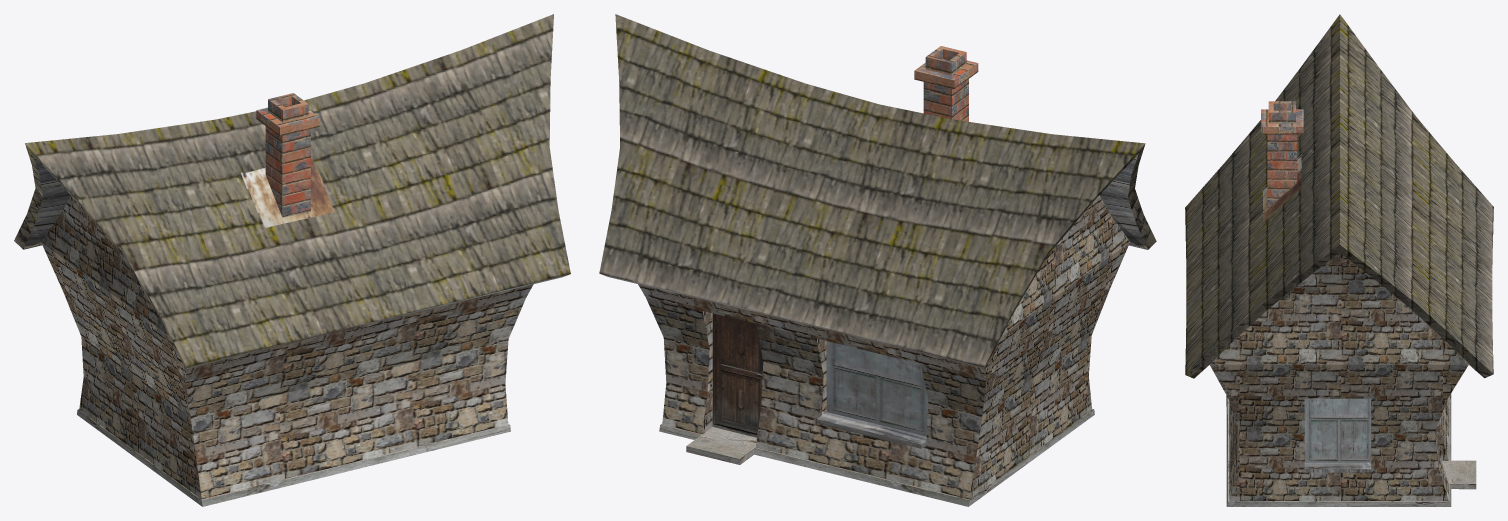
File: house.obj
3 views of the same model, side by side, from view 1: azimuth 30°, elevation 25°; view 2: azimuth 150°, elevation 25°; view 3: azimuth 270°, elevation 25° (orthographic). The views are drawn at different scales.
Parts seen in each view (by area): view 1: House_Cube; view 2: House_Cube; view 3: House_Cube.
Boxes of the visible parts, left/top/right/bottom form: House_Cube: left=14, top=14, right=570, bottom=506; House_Cube: left=599, top=14, right=1156, bottom=506; House_Cube: left=1185, top=14, right=1493, bottom=506.
Bounding box in the file's own units: 7.69 × 4.92 × 4.35.
1 material, 1 textured.
